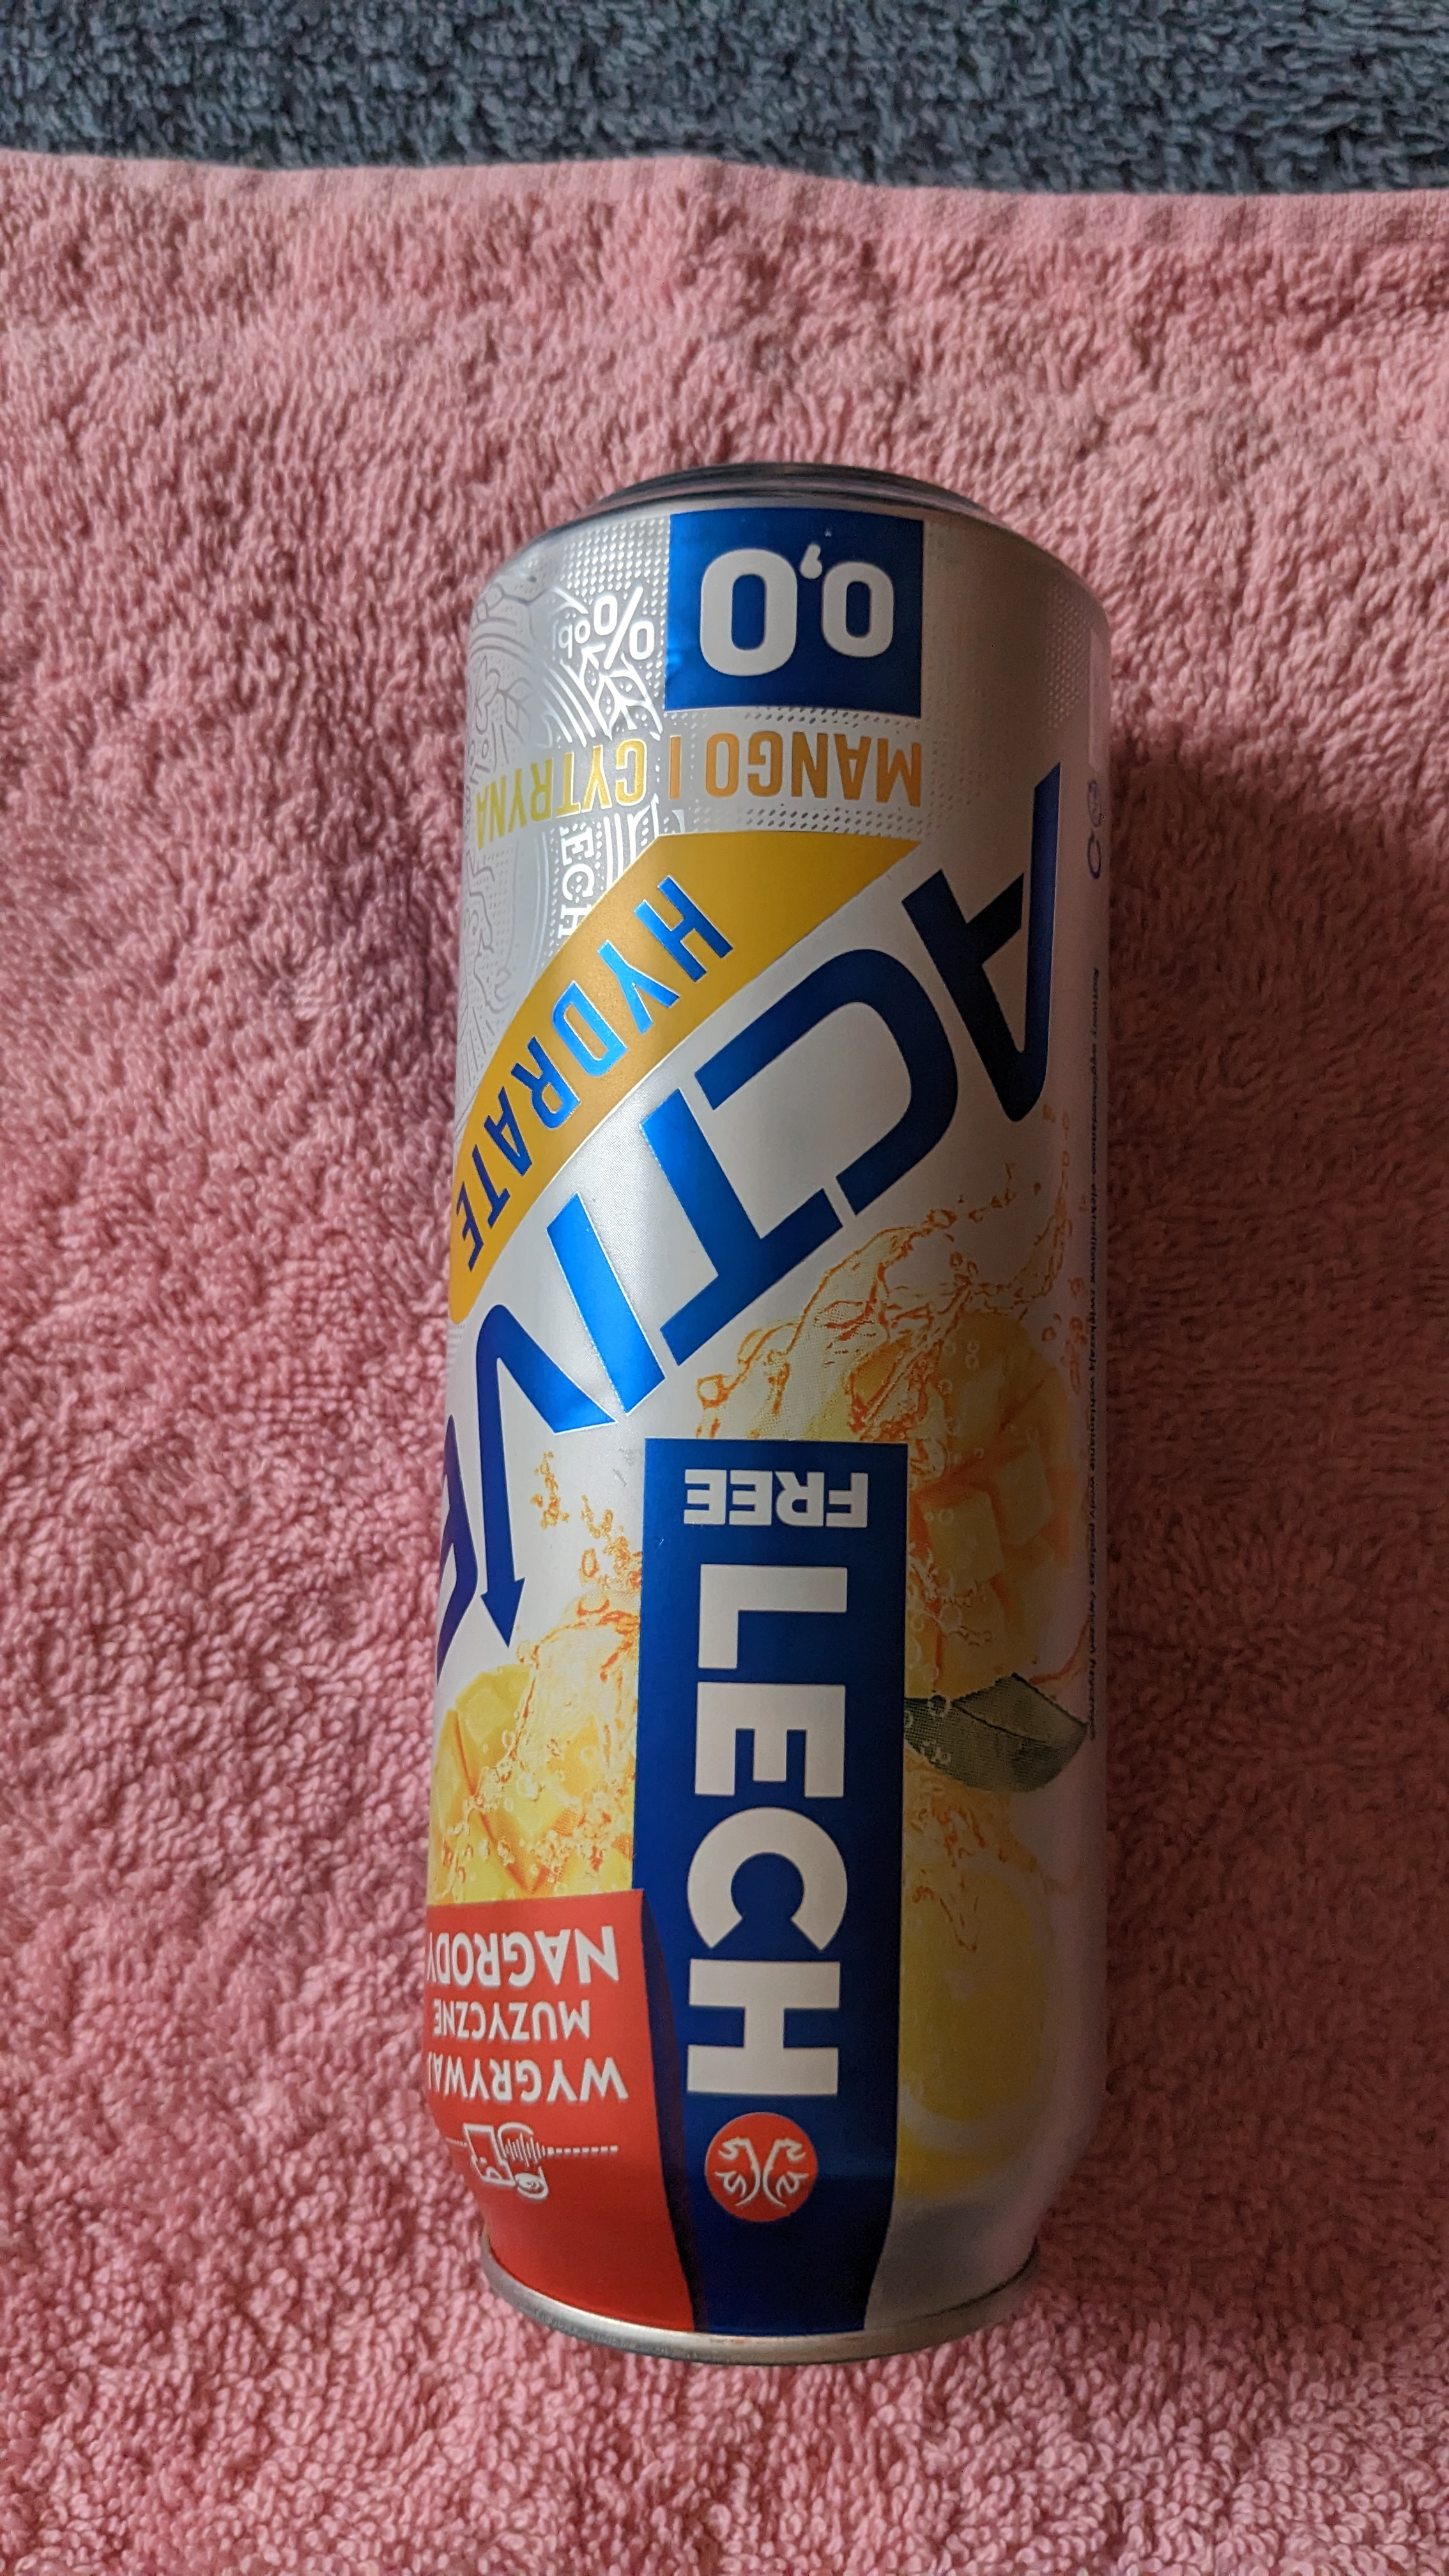lech-active: (382, 421, 1157, 2401)
